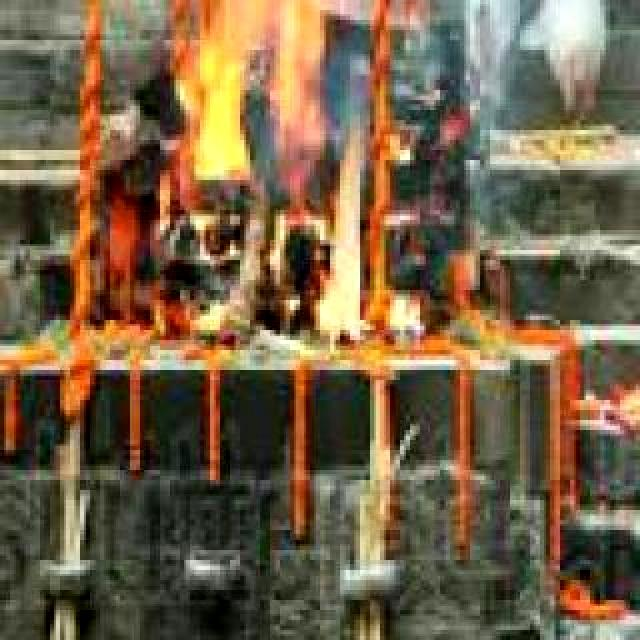fire: (182, 0, 382, 352)
